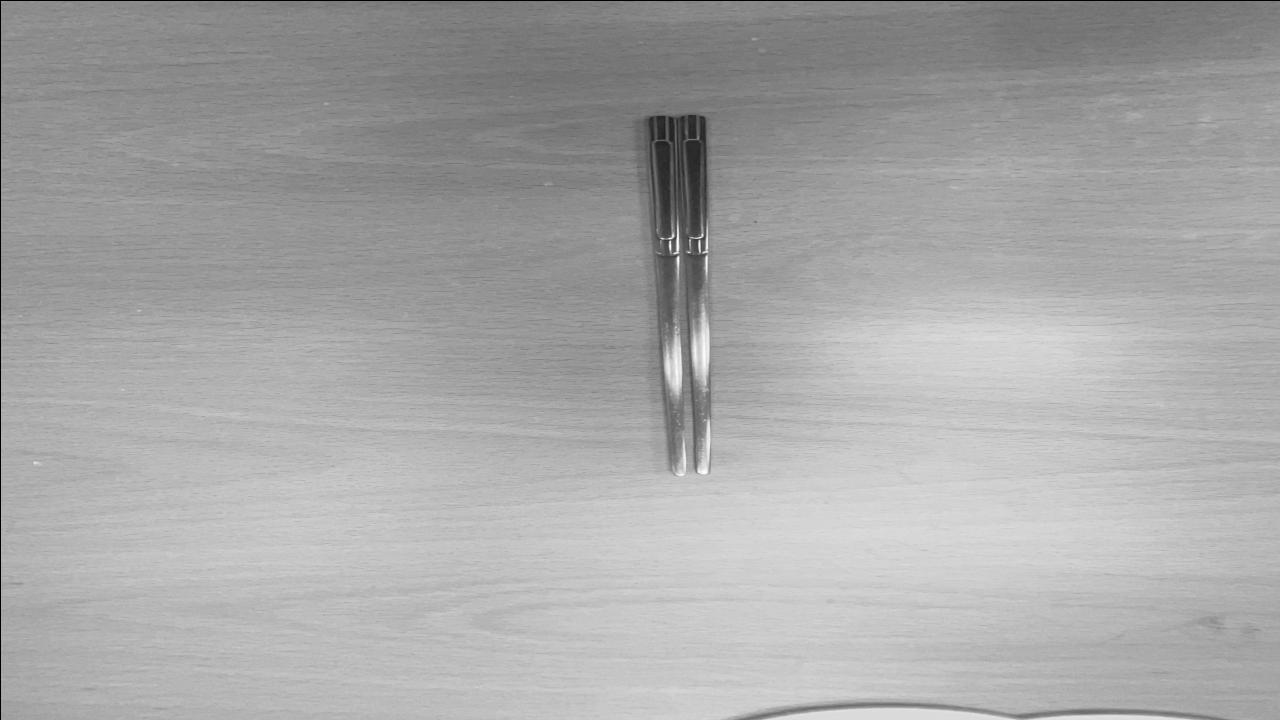chopstick: (645, 115, 710, 476)
